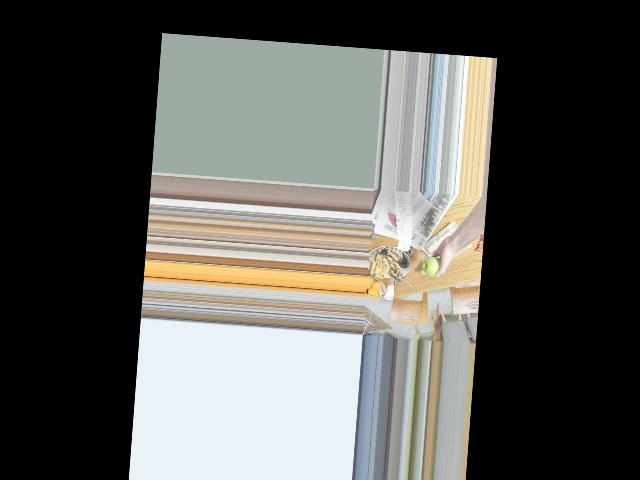apple: (421, 253, 446, 280)
